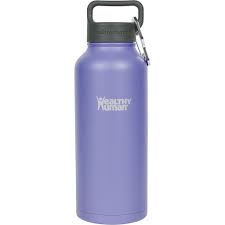bottle: (74, 1, 151, 225)
